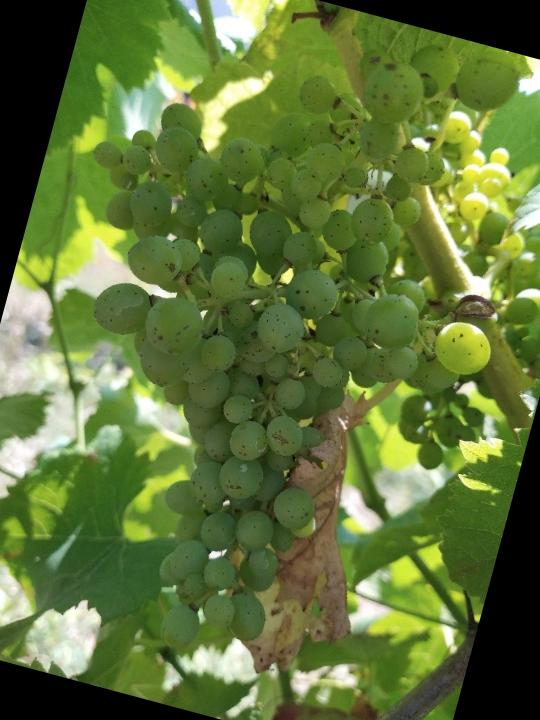grape: (0, 0, 540, 717)
